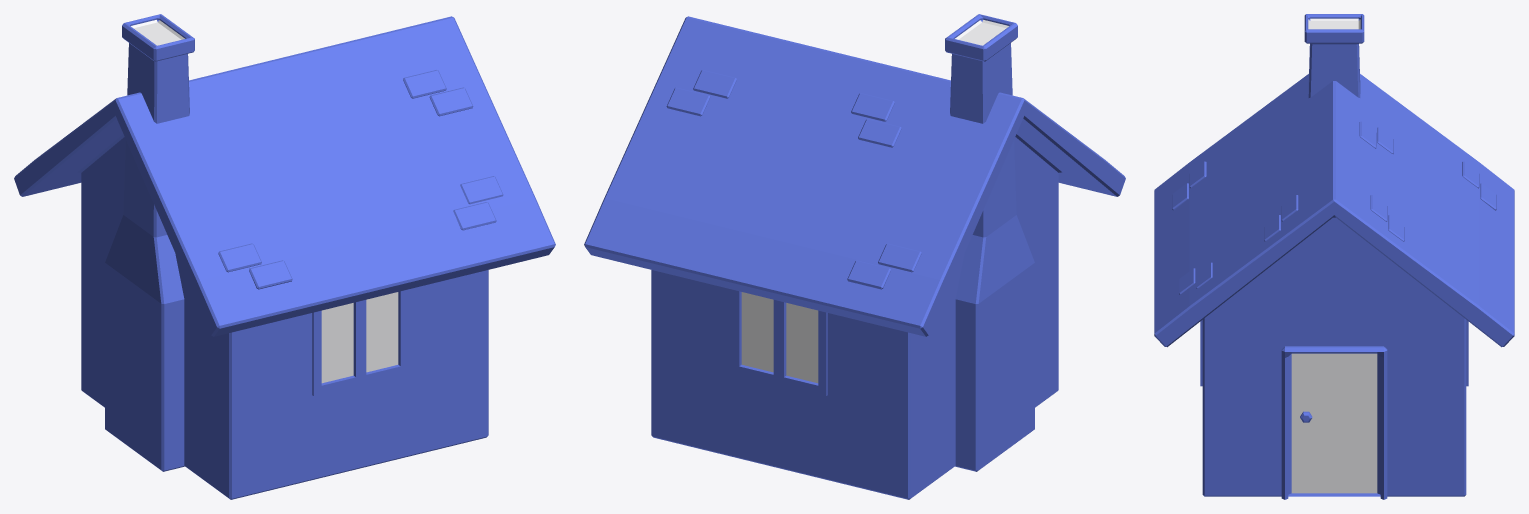
File: house2.glb
3 views of the same model, side by side, from view 1: azimuth 30°, elevation 25°; view 2: azimuth 150°, elevation 25°; view 3: azimuth 270°, elevation 25° (orthographic). The views are drawn at different scales.
Parts seen in each view (by area): view 1: Circle; view 2: Circle; view 3: Circle.
Part boxes in pixels (box(x1,y1,x2,y2)): Circle: box(14, 14, 555, 499); Circle: box(584, 14, 1125, 499); Circle: box(1154, 14, 1514, 499).
Size of the model in its own units: 2.61 by 3.06 by 2.73.
